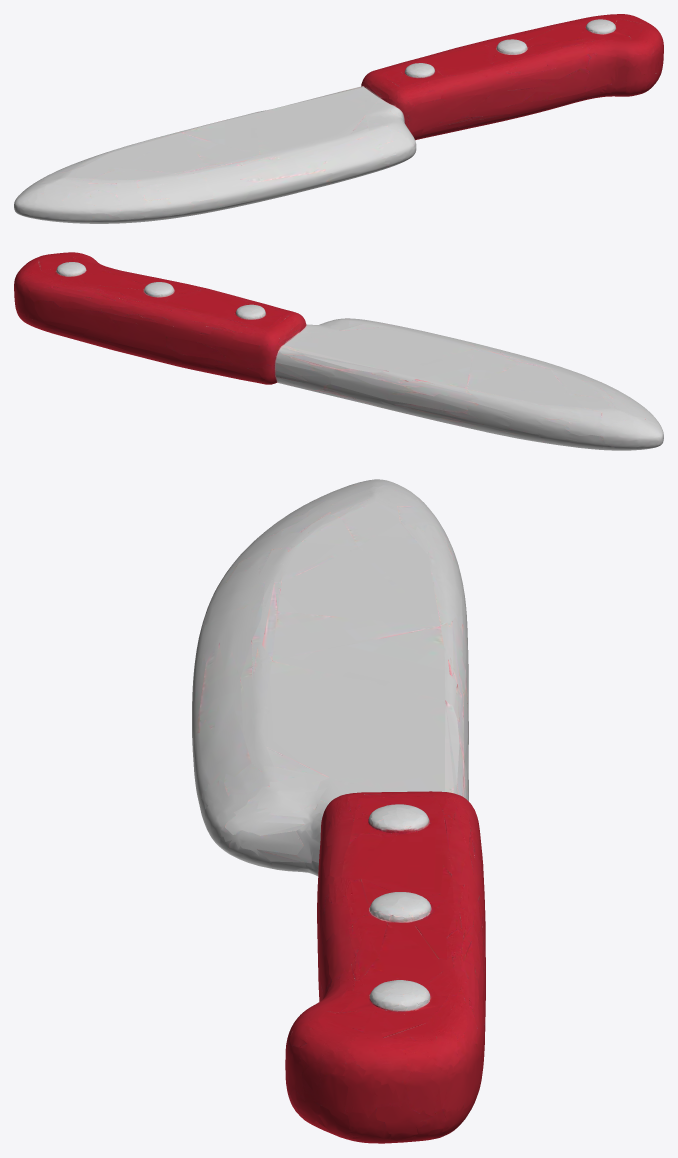
Rendered from mes.glb.
The picture shows the model from 3 angles, top to bottom: view 1: azimuth 30°, elevation 25°; view 2: azimuth 150°, elevation 25°; view 3: azimuth 270°, elevation 25°; orthographic projection. The views are drawn at different scales.
Visible parts, largest first — view 1: Mesh_0; view 2: Mesh_0; view 3: Mesh_0.
Boxes of the visible parts, x1,y1,x2,y2 form: Mesh_0: (14,14,663,223); Mesh_0: (14,252,663,450); Mesh_0: (192,479,485,1143).
Size of the model in its own units: 1.9 by 0.1779 by 0.3804.
1 material, 1 textured.
